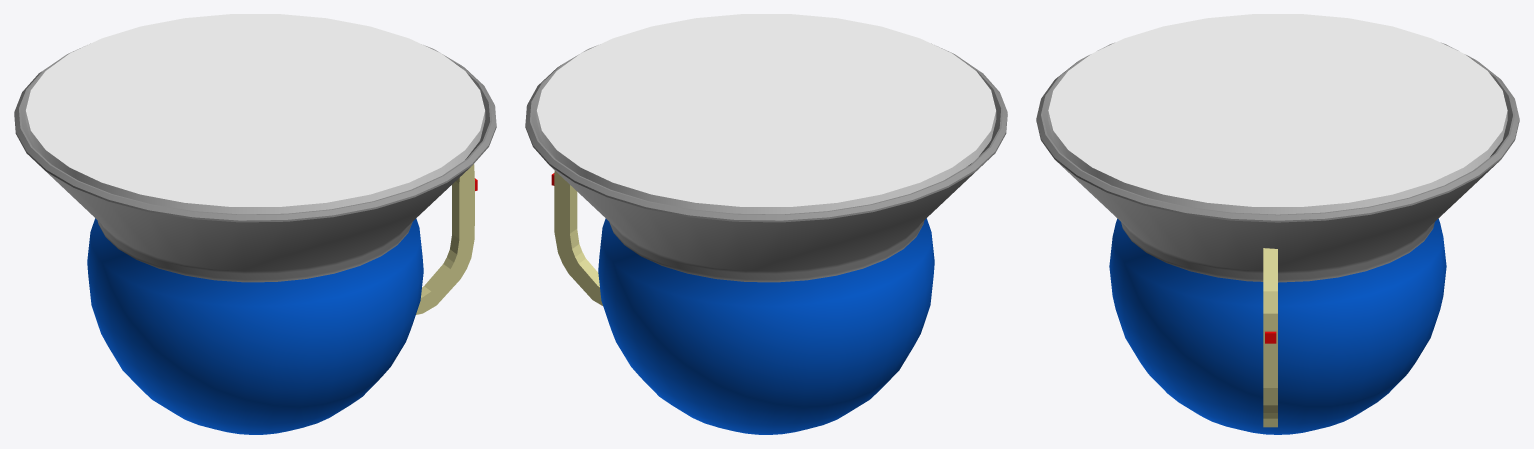
The model's file is Bag Logan 1.FBX.
The picture shows the model from 3 angles, left to right: view 1: azimuth 30°, elevation 25°; view 2: azimuth 150°, elevation 25°; view 3: azimuth 270°, elevation 25°; orthographic projection.
Visible parts, largest first — view 1: Trap, Bag; view 2: Trap, Bag; view 3: Trap, Bag.
Part boxes in pixels (bbox=[...]): Trap: bbox=[25, 14, 485, 214]; Bag: bbox=[14, 43, 496, 434]; Trap: bbox=[536, 14, 996, 214]; Bag: bbox=[525, 43, 1007, 434]; Trap: bbox=[1048, 14, 1507, 214]; Bag: bbox=[1036, 42, 1519, 434].
Bounding box in the file's own units: 12845 × 8918 × 12654.
